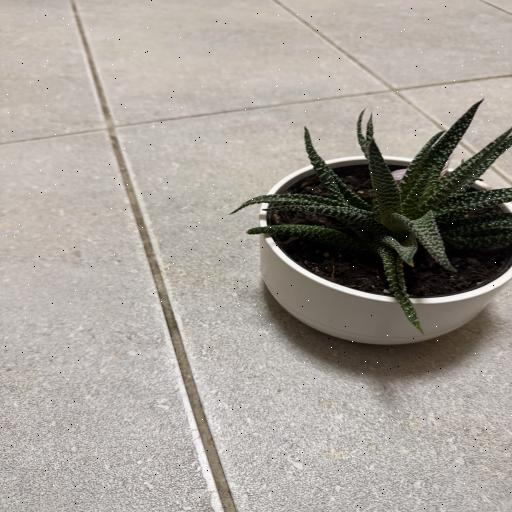Plant Pot: (258, 154, 511, 344)
